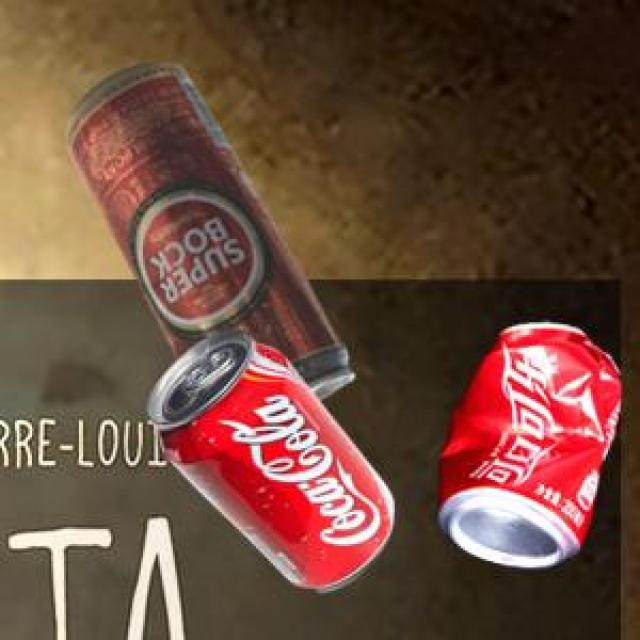Can: (63, 61, 351, 396), (144, 327, 391, 590), (436, 319, 618, 564)
